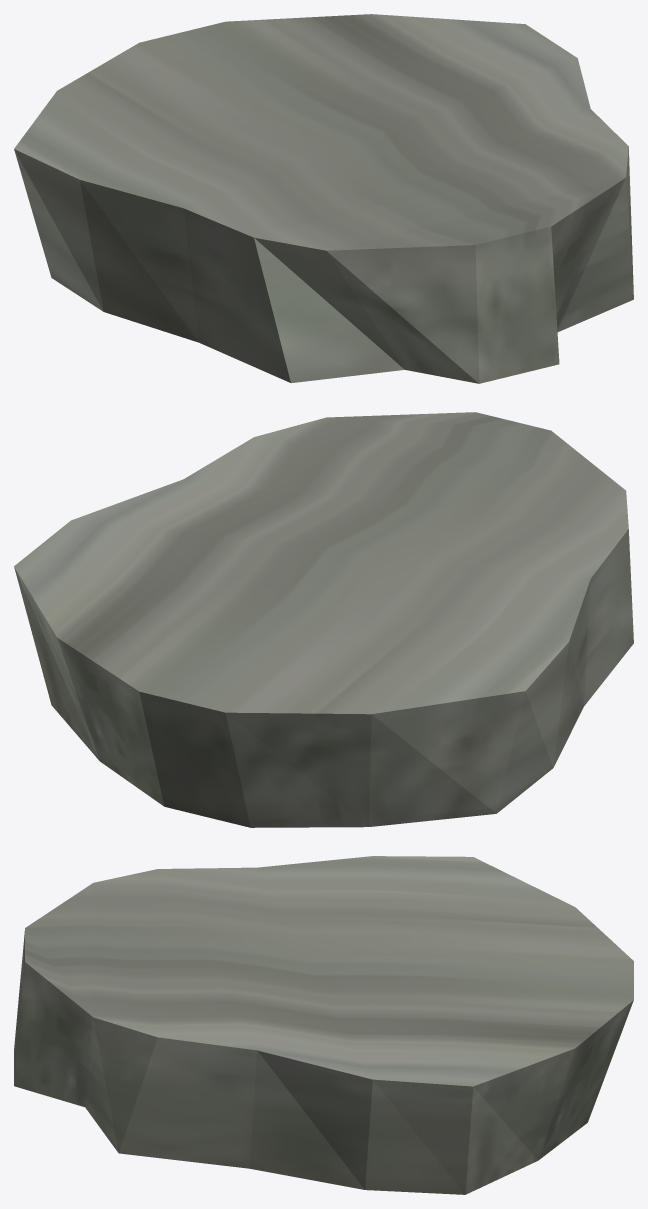
The model's file is OPASKAOCZY.glb.
3 renders of one model, top to bottom at view 1: azimuth 30°, elevation 25°; view 2: azimuth 150°, elevation 25°; view 3: azimuth 270°, elevation 25°, orthographic. The views are drawn at different scales.
Parts seen in each view (by area): view 1: OPASKAOCZY; view 2: OPASKAOCZY; view 3: OPASKAOCZY.
Boxes of the visible parts, x1,y1,x2,y2 form: OPASKAOCZY: [14, 14, 633, 383]; OPASKAOCZY: [14, 412, 633, 827]; OPASKAOCZY: [14, 856, 633, 1194].
Size of the model in its own units: 0.2033 by 0.0653 by 0.2319.
Materials: 1 (1 with a texture image).
